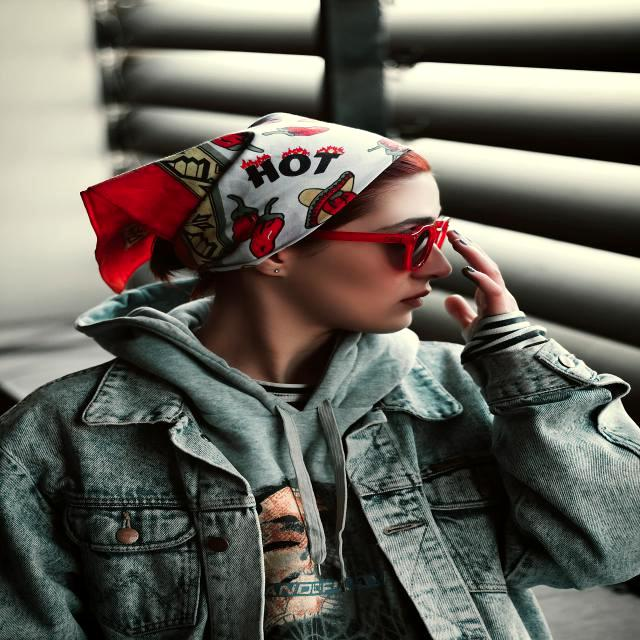no_hard_hat: (81, 113, 410, 293)
person: (23, 151, 638, 624)
